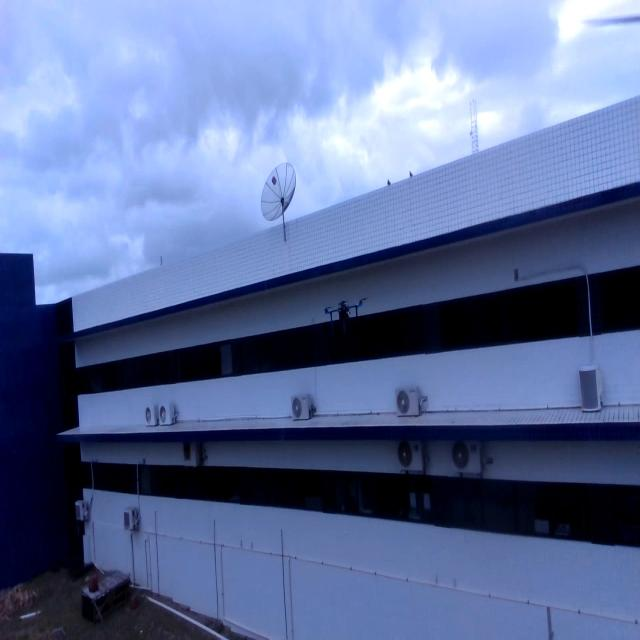-uav-: (318, 293, 372, 335)
